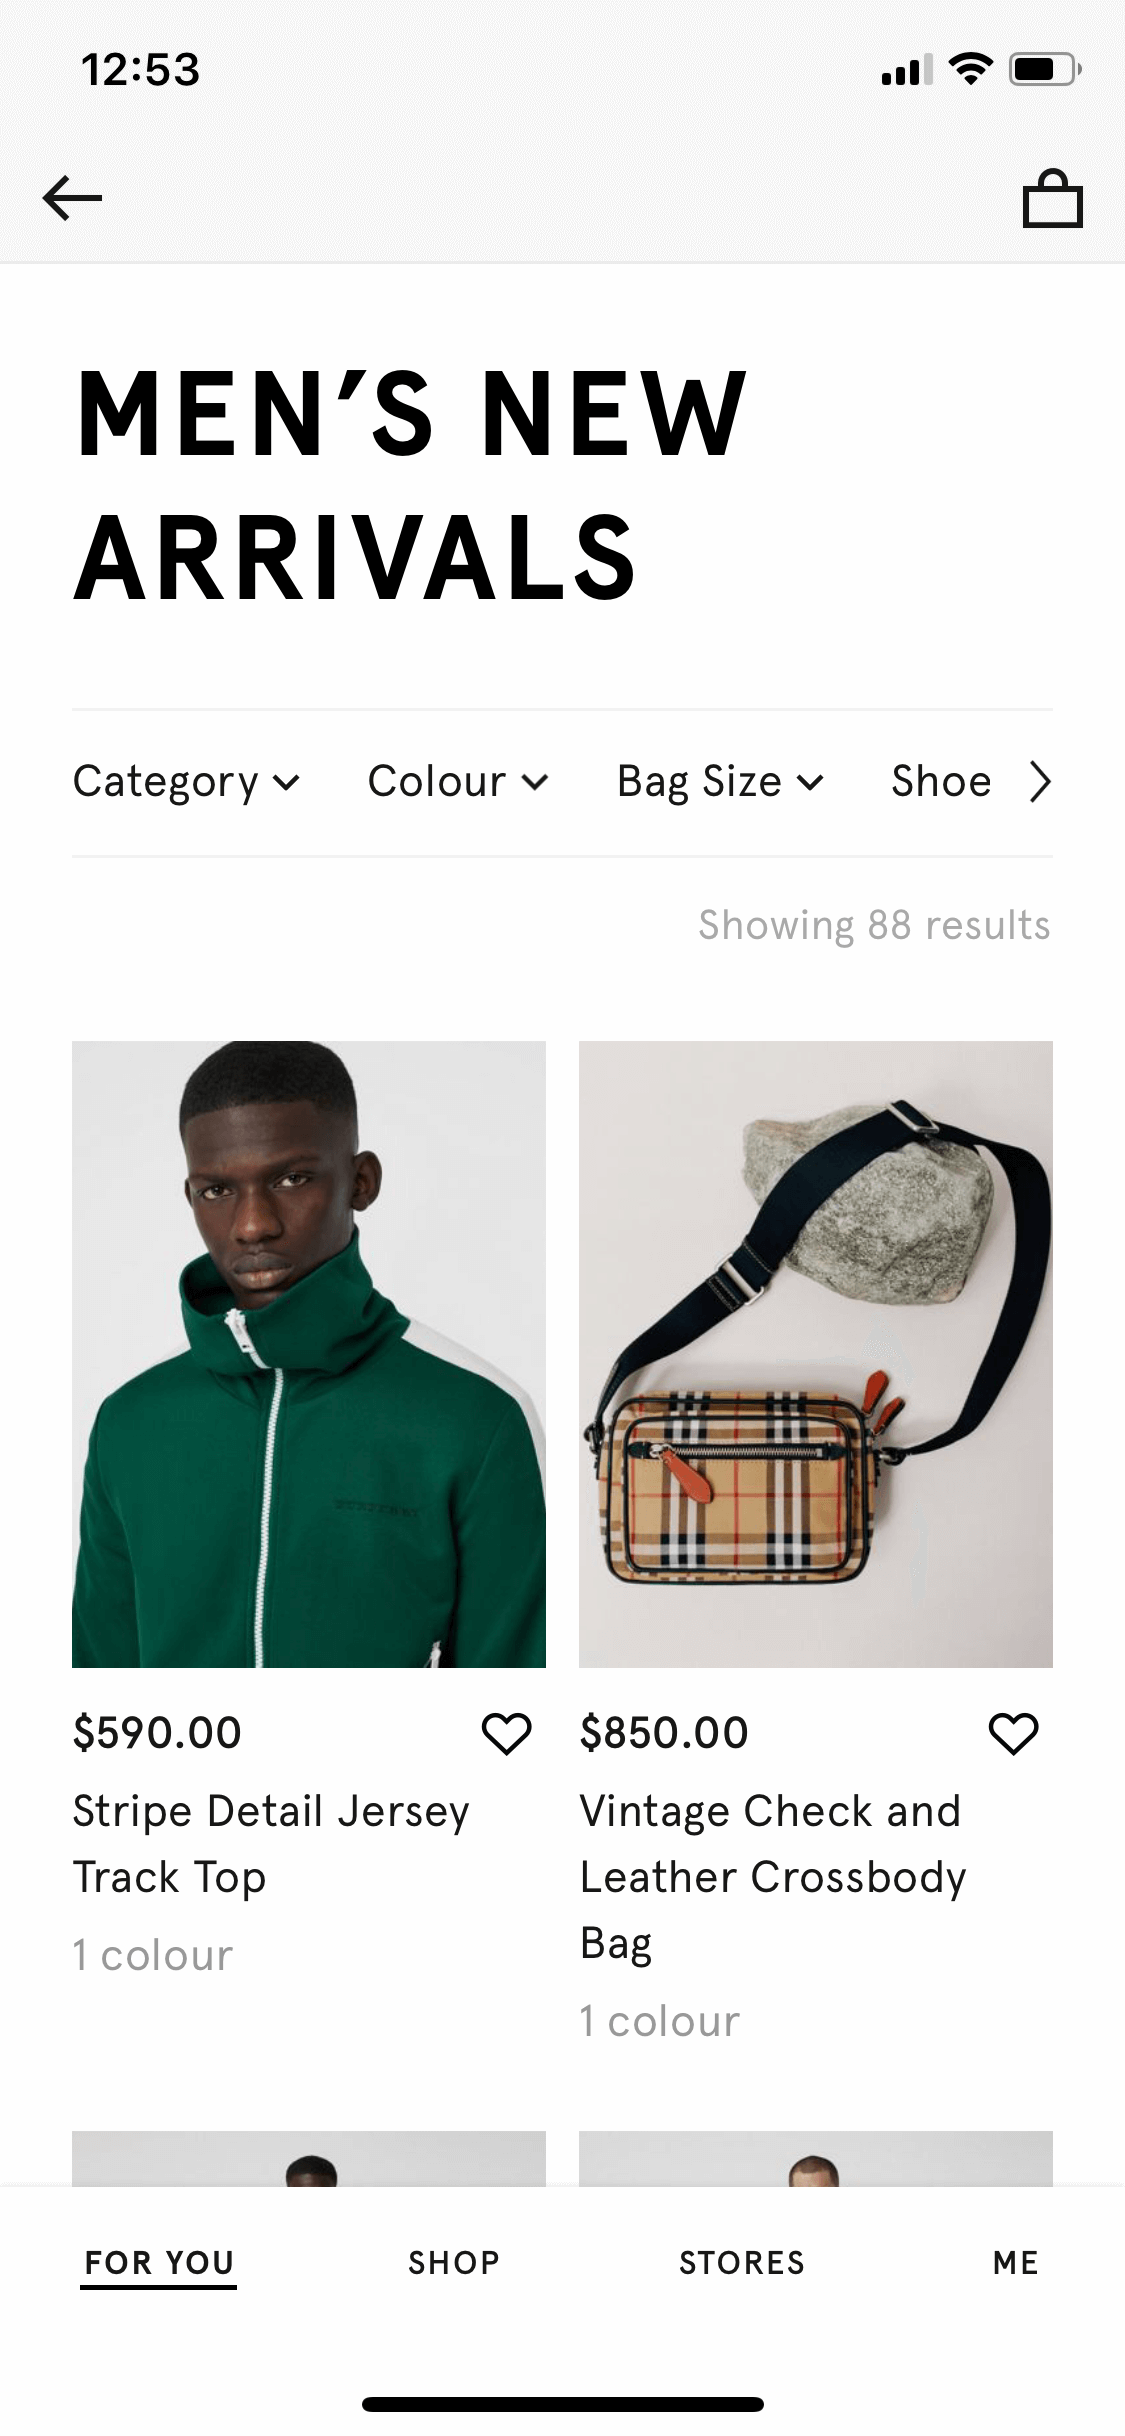Buttons: (9, 144, 134, 256), (993, 149, 1106, 253), (458, 1687, 550, 1779), (970, 1686, 1054, 1777)
